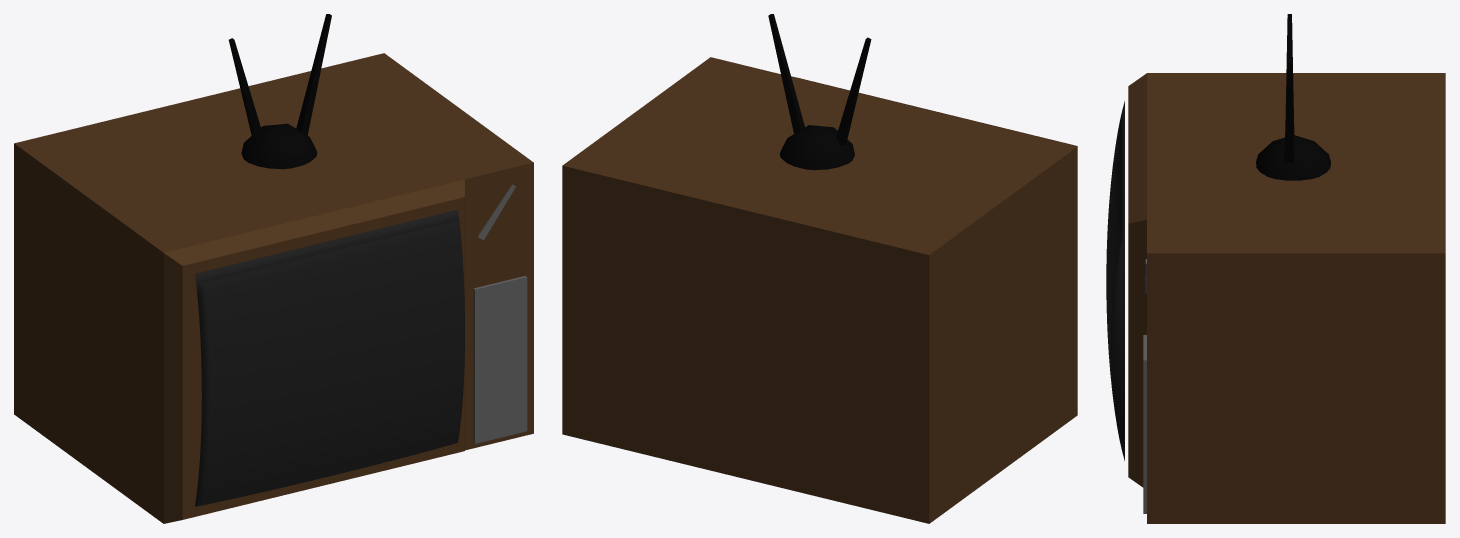
3 renders of one model, left to right at view 1: azimuth 30°, elevation 25°; view 2: azimuth 150°, elevation 25°; view 3: azimuth 270°, elevation 25°, orthographic.
Visible parts, largest first — view 1: BodyFrame, Screen; view 2: BodyFrame; view 3: BodyFrame, Screen.
Boxes of the visible parts, bbox=[...] form: BodyFrame: bbox=[14, 14, 533, 523]; Screen: bbox=[195, 209, 464, 506]; BodyFrame: bbox=[562, 14, 1077, 523]; BodyFrame: bbox=[1128, 14, 1445, 523]; Screen: bbox=[1106, 101, 1124, 460].
Size of the model in its own units: 2.86 by 2.94 by 2.27.
